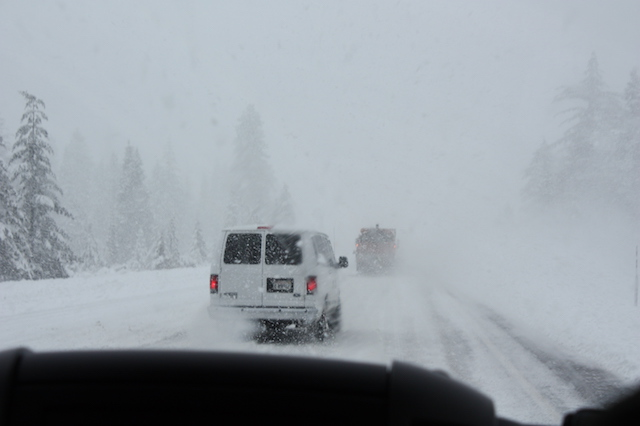car: (207, 221, 348, 343), (354, 225, 404, 279)
